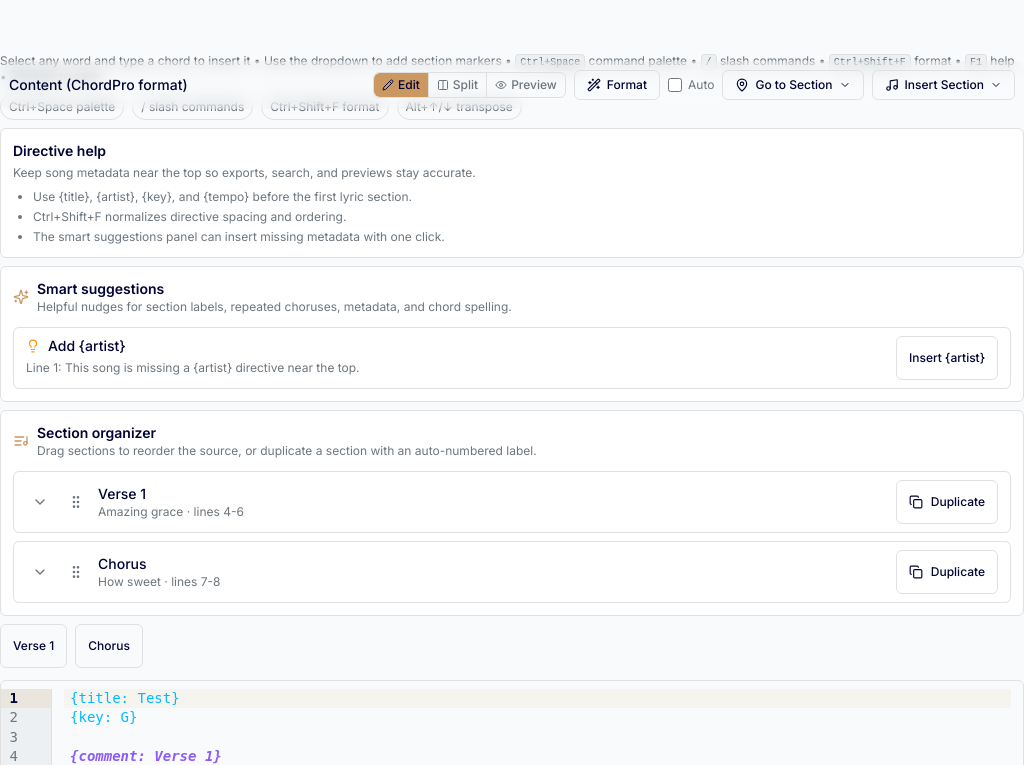
Test: ChordProEditor — Phase 2 features › split preview › restores editor when switching back to edit mode
Click the button with test id "view-mode-preview". click: coordinates (526, 85)
box: 487,73 -> 565,97
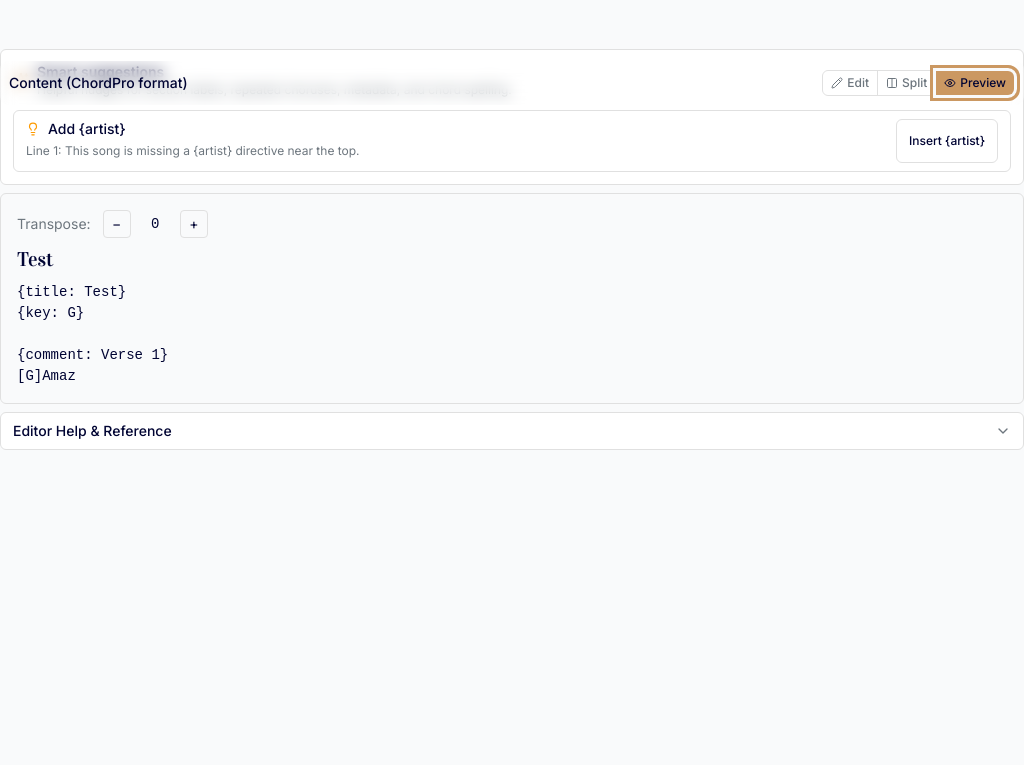
Click the button with test id "view-mode-edit". click: coordinates (850, 83)
box: 823,71 -> 877,95
(page scrolled)
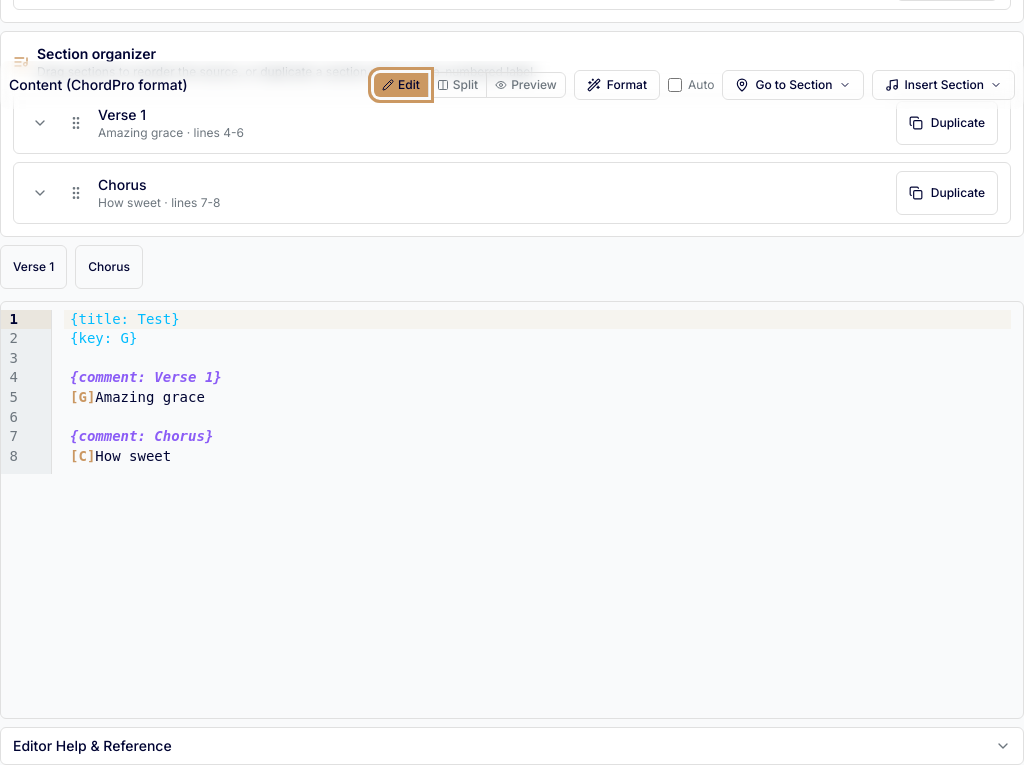
Expected: the field with test id "chordpro-editor" is shown, 52,310 -> 1023,474
